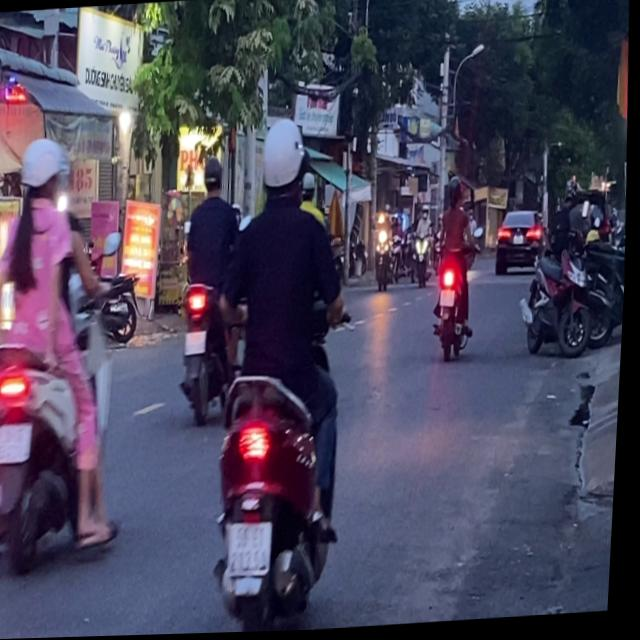helmet: (256, 115, 310, 205), (14, 132, 71, 211), (200, 155, 224, 196)
licenseplate: (194, 108, 369, 635), (0, 123, 136, 578), (171, 152, 252, 425)
nohelmet: (229, 522, 276, 576), (0, 422, 35, 462), (186, 330, 209, 355)
